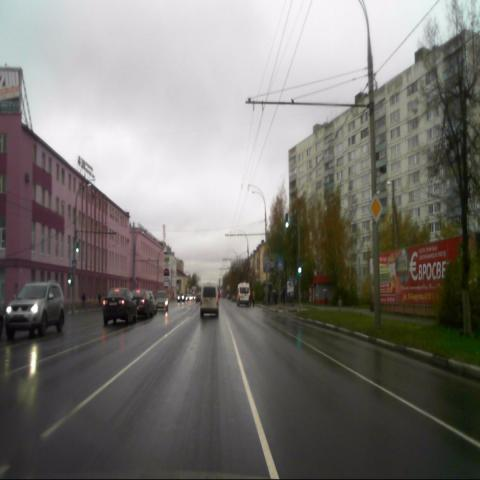2_1: (368, 194, 384, 223)
